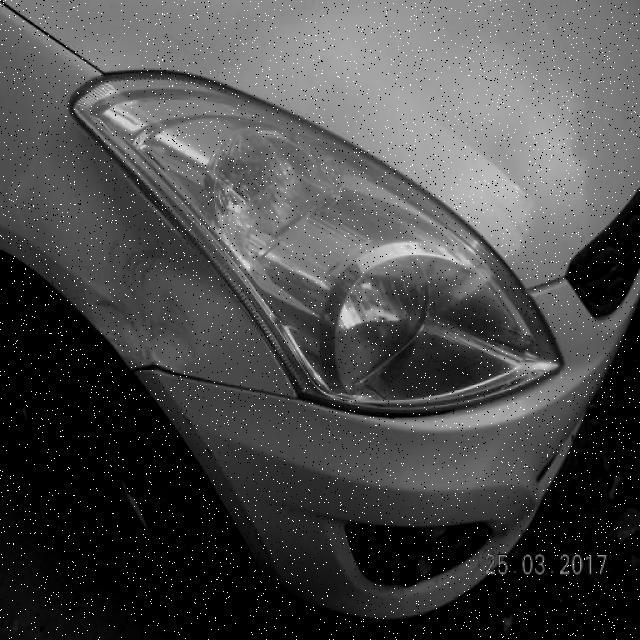car damage: (93, 227, 201, 377)
